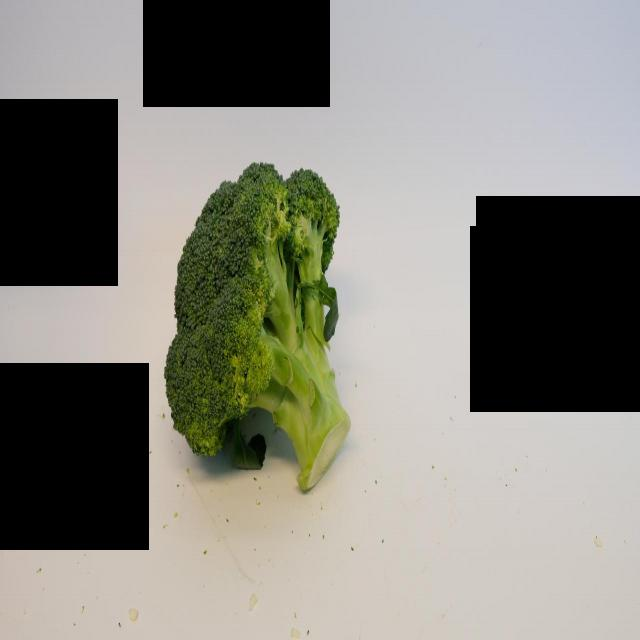broccoli: (162, 158, 356, 489)
